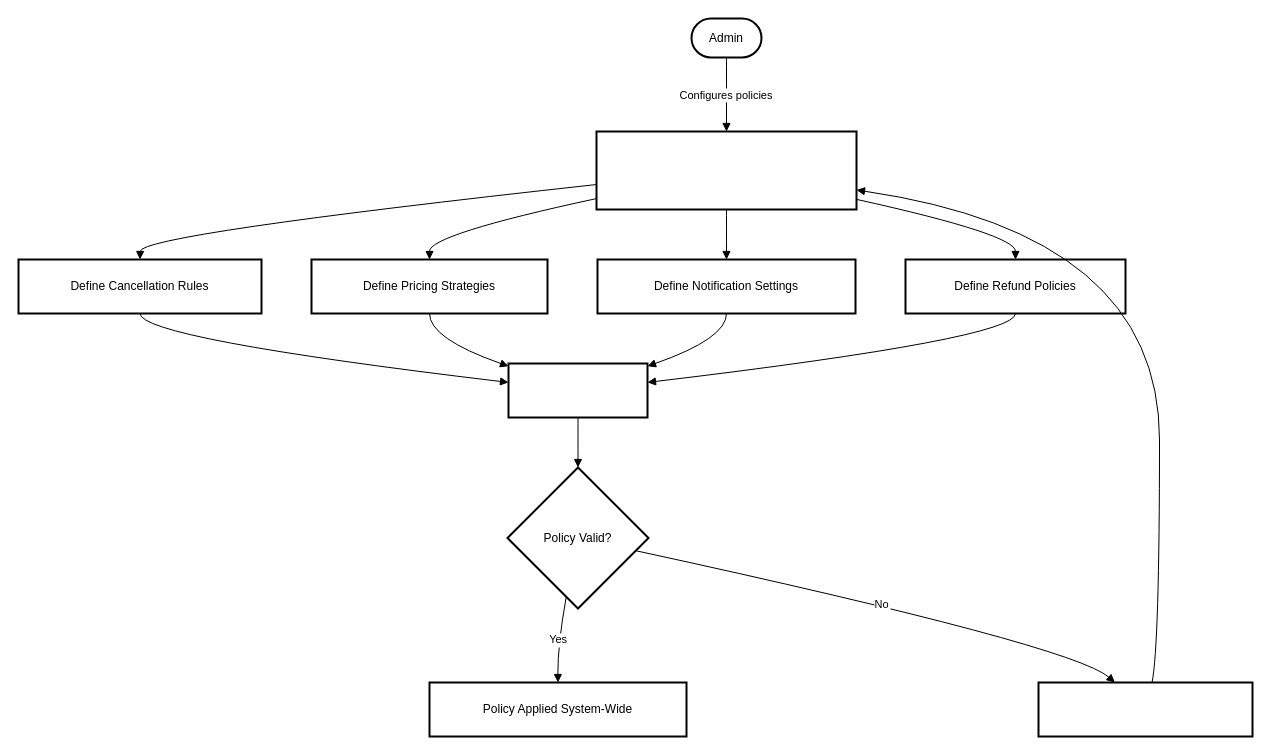
The diagram is 1270 pixels wide and 754 high, and some of its shapes have lost their labels. Each missing label, with the box of its shape:
Open System Policy Settings: (595, 130, 857, 210)
Save Policy: (507, 362, 648, 418)
Show Validation Error: (1037, 681, 1253, 737)
